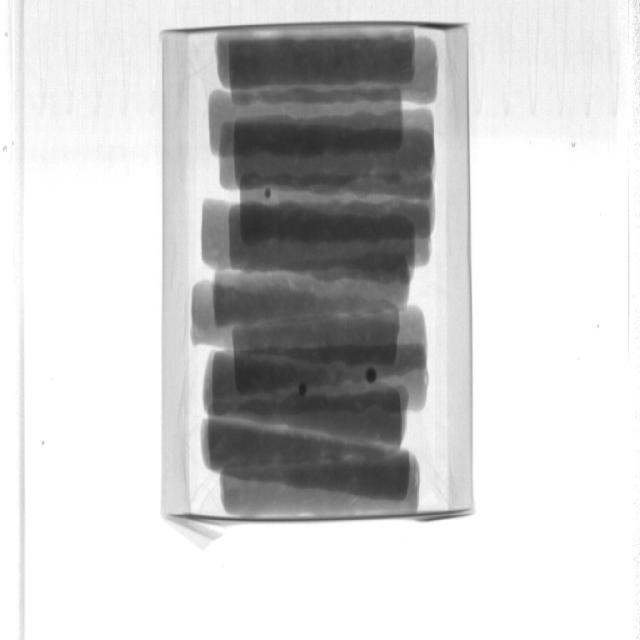ym: (366, 367, 378, 383), (299, 384, 307, 396), (267, 189, 274, 198)
